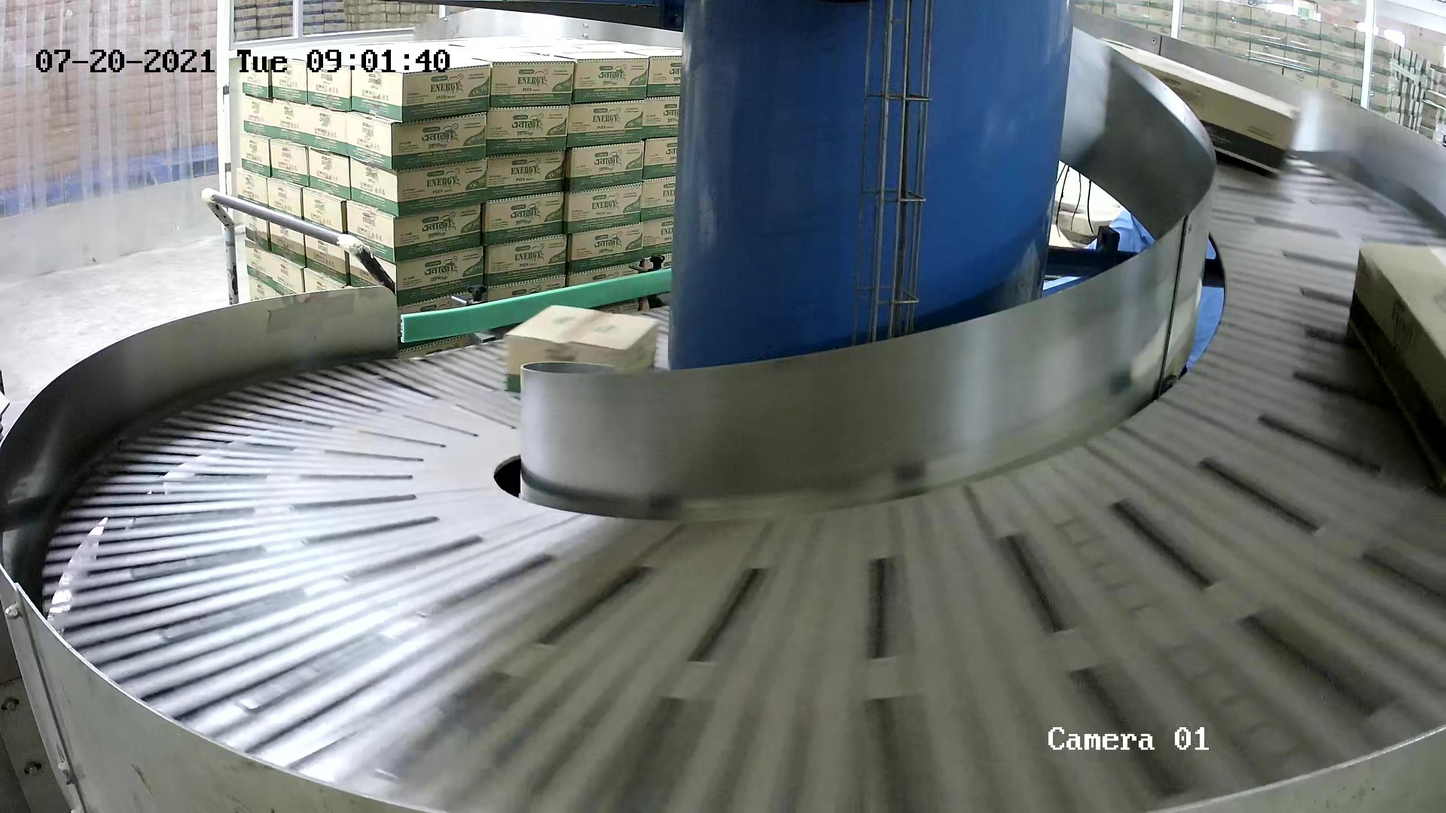Box: (1096, 34, 1304, 181), (1345, 239, 1446, 487), (502, 300, 662, 400)
